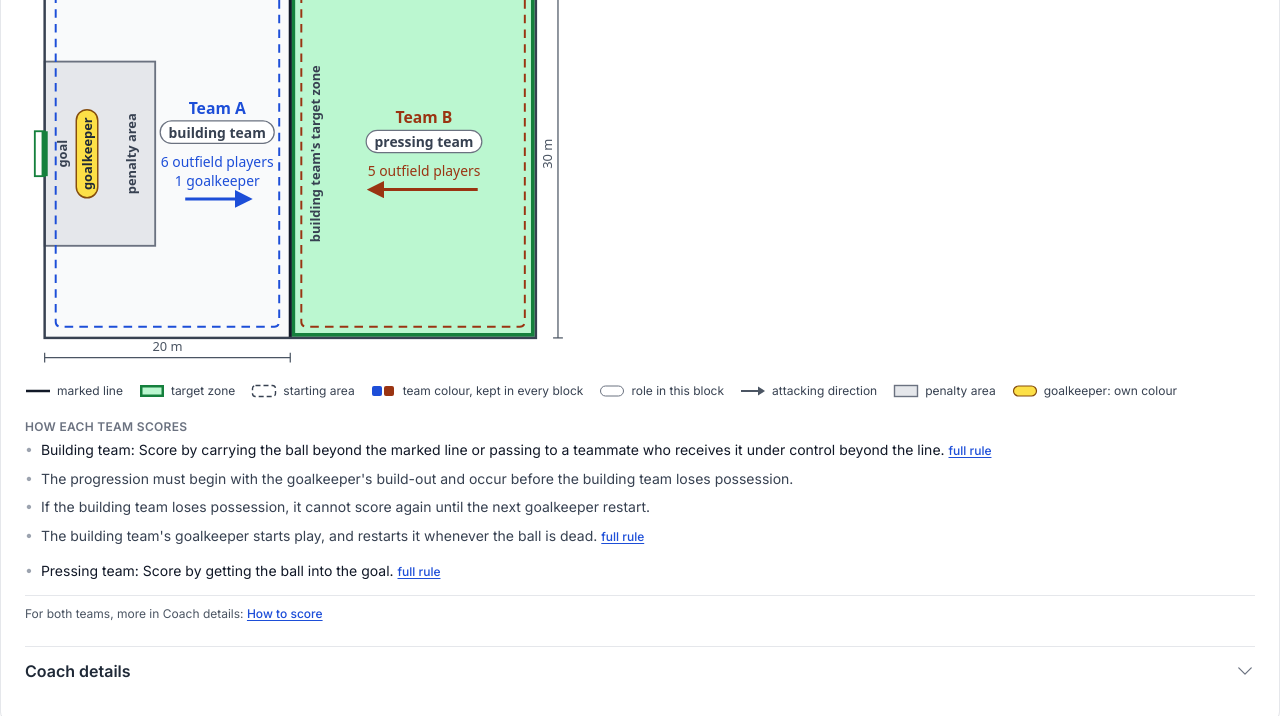
it: CheckedActivityBlock › opens Coach Details on request and reveals the fixture instructions
The width and height of the screenshot is (1280, 716).
(page scrolled)
Click the button "Coach details".
click(78, 670)  # box [25,646,1255,694]
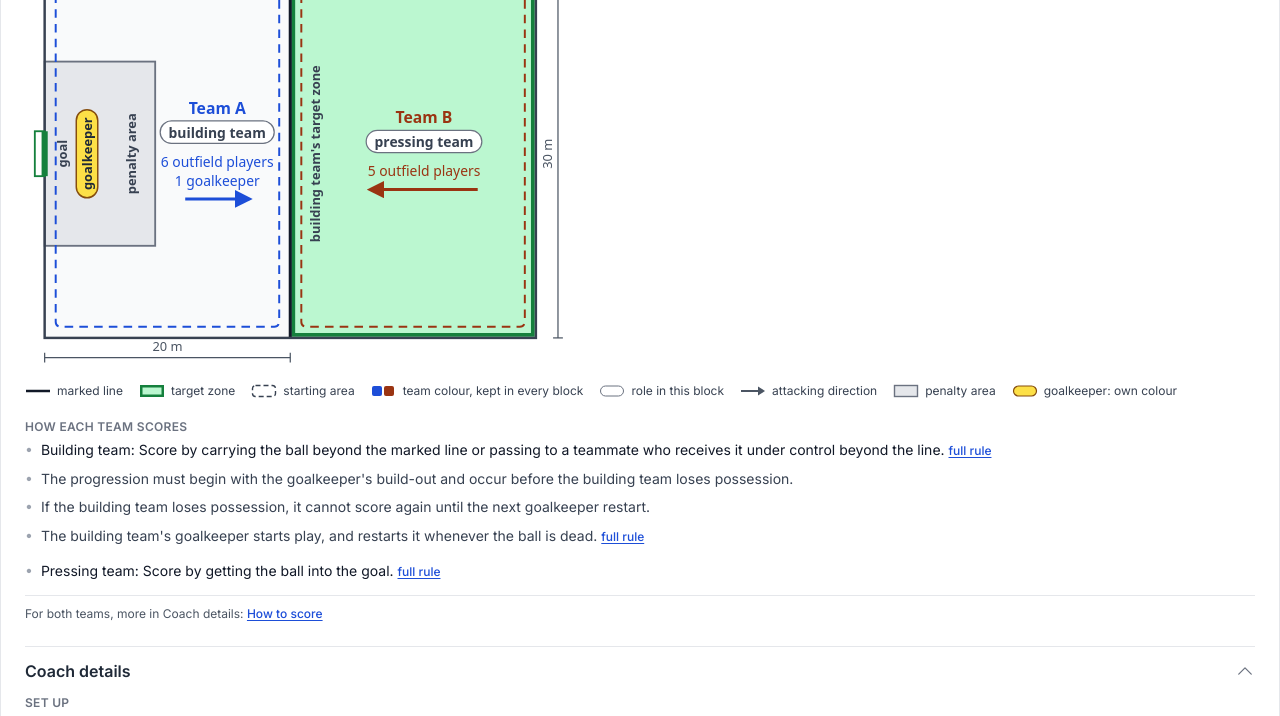
Expected: the button "Coach details" is expanded, [25,646,1255,694]
